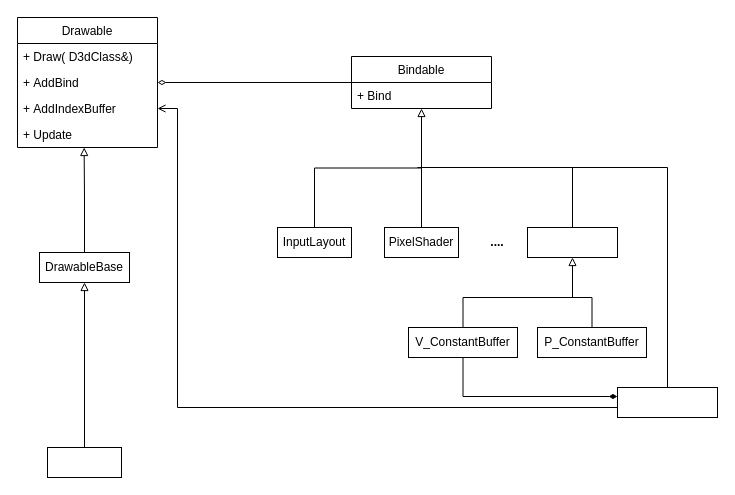
Some shapes in this 735 by 495 pixel diagram are drawn without their labels. Each missing label, with the centre of its shape:
"Box" belongs at pixel 84 462.
"ConstantBuffer" belongs at pixel 572 242.
"TransformBuffer" belongs at pixel 667 402.
